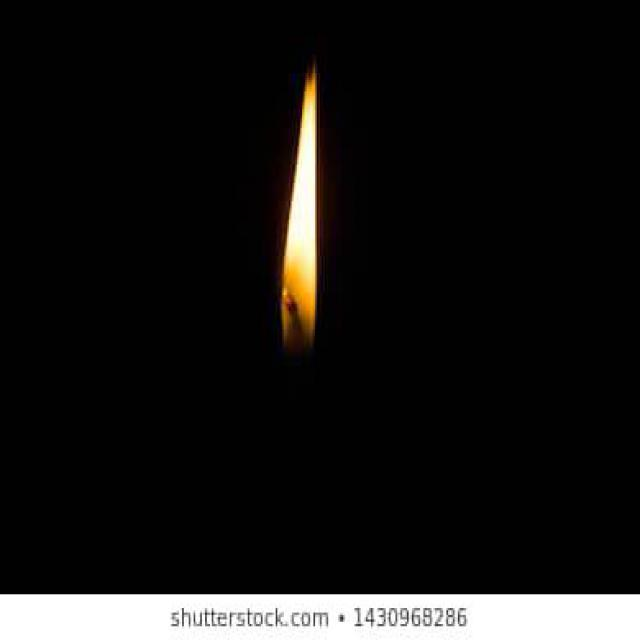Fire: (280, 63, 320, 354)
